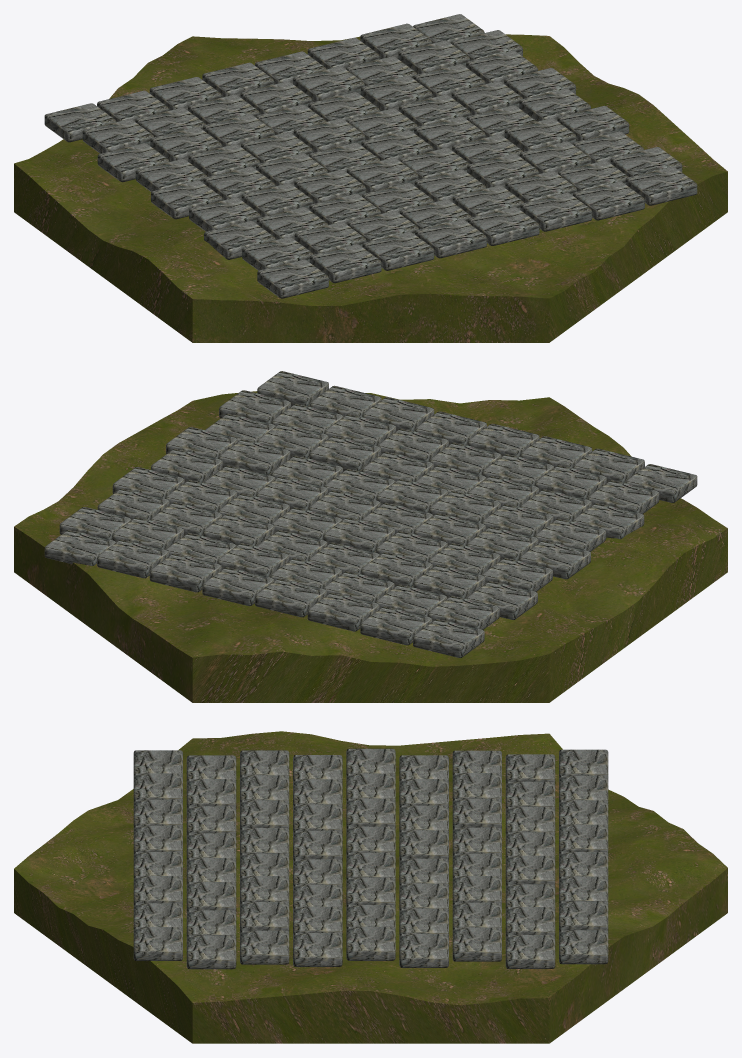
File: env-terrain-city.glb
The picture shows the model from 3 angles, top to bottom: view 1: azimuth 30°, elevation 25°; view 2: azimuth 150°, elevation 25°; view 3: azimuth 270°, elevation 25°; orthographic projection.
Visible parts, largest first — view 1: terrain city · authored textured miniature; view 2: terrain city · authored textured miniature; view 3: terrain city · authored textured miniature.
Boxes of the visible parts, left/top/right/bottom form: terrain city · authored textured miniature: left=14, top=14, right=727, bottom=342; terrain city · authored textured miniature: left=14, top=371, right=727, bottom=702; terrain city · authored textured miniature: left=14, top=731, right=727, bottom=1043.
Size of the model in its own units: 1.63 by 0.1893 by 1.88.
2 materials, 2 textured.
